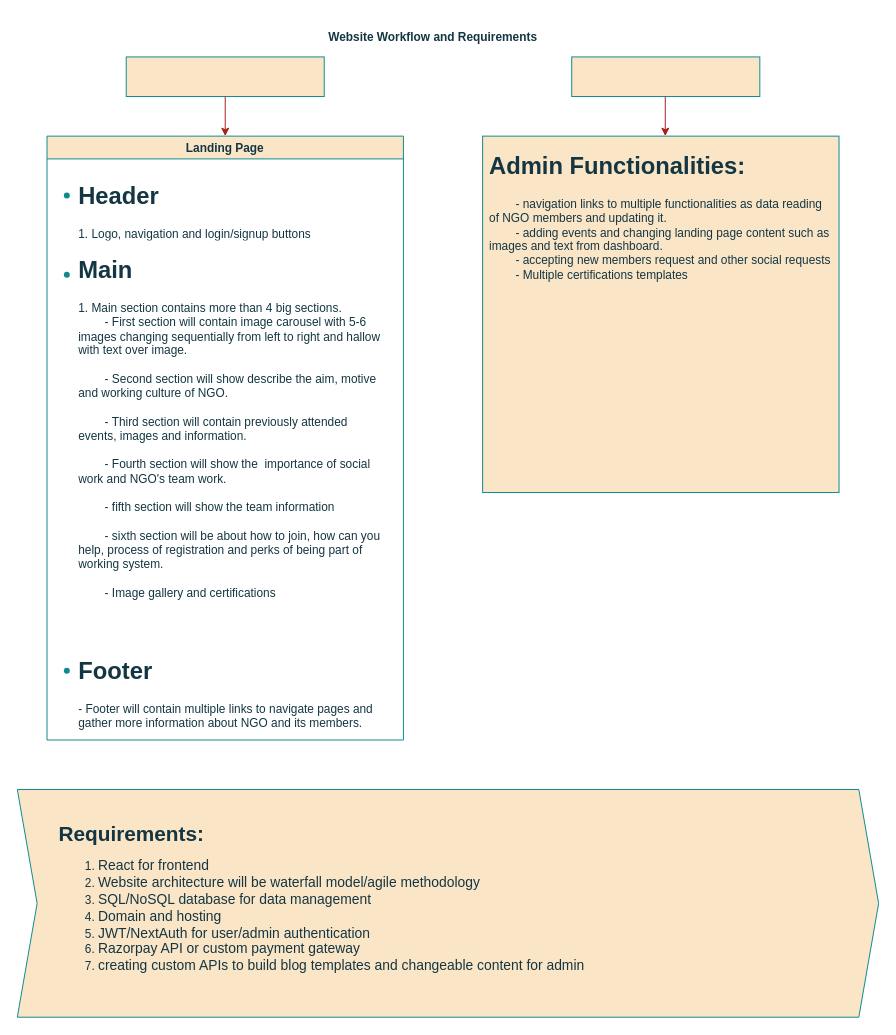
Image size: 896x1035. Some labels were removed from this diagram. Here are the shapes that lost their labels. From the top down, the centre of each, then its label:
At point 224,76: "Landing Page Content".
At point 665,76: "Admin Dashboard and data flow".
